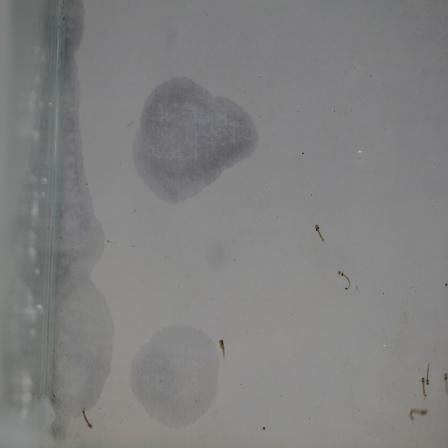Jentik-Nyamuk: (418, 357, 437, 402), (78, 403, 100, 435), (309, 220, 332, 249), (334, 266, 355, 295), (406, 406, 433, 428), (214, 336, 233, 363)
